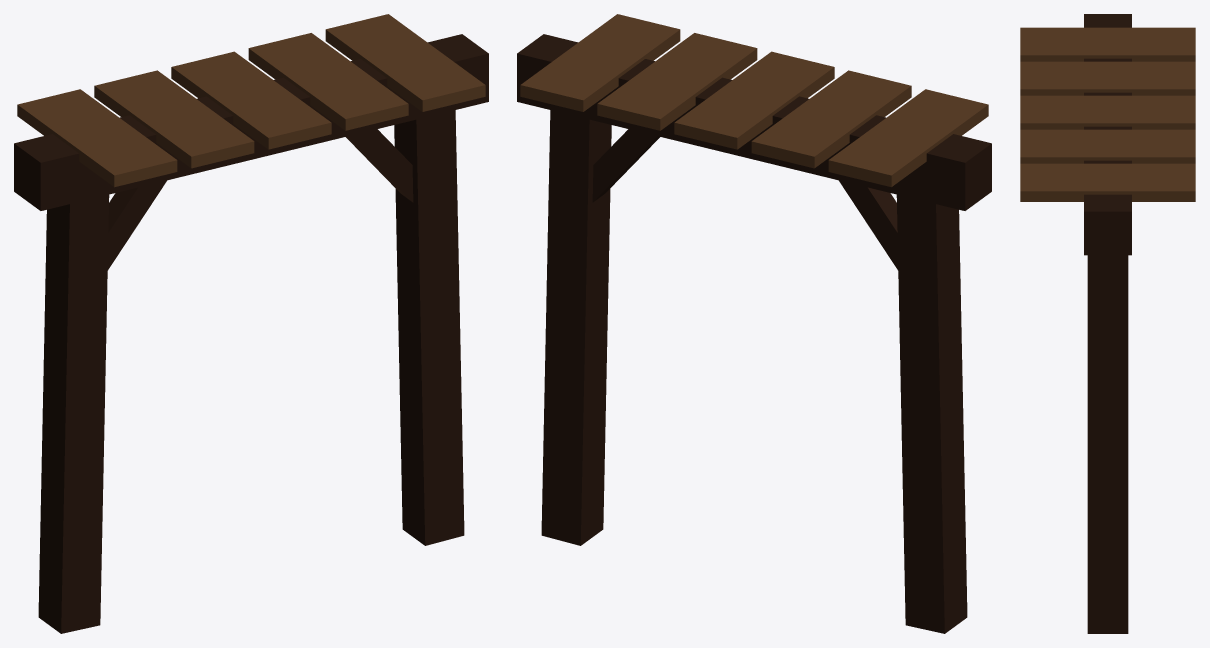
File: vigas_mina.fbx
3 renders of one model, left to right at view 1: azimuth 30°, elevation 25°; view 2: azimuth 150°, elevation 25°; view 3: azimuth 270°, elevation 25°, orthographic. The views are drawn at different scales.
Parts seen in each view (by area): view 1: vigas_mina; view 2: vigas_mina; view 3: vigas_mina.
Boxes of the visible parts, x1,y1,x2,y2 form: vigas_mina: (14, 14, 488, 633); vigas_mina: (517, 14, 991, 633); vigas_mina: (1020, 14, 1195, 633).
Size of the model in its own units: 3.2 by 3.29 by 1.2.
